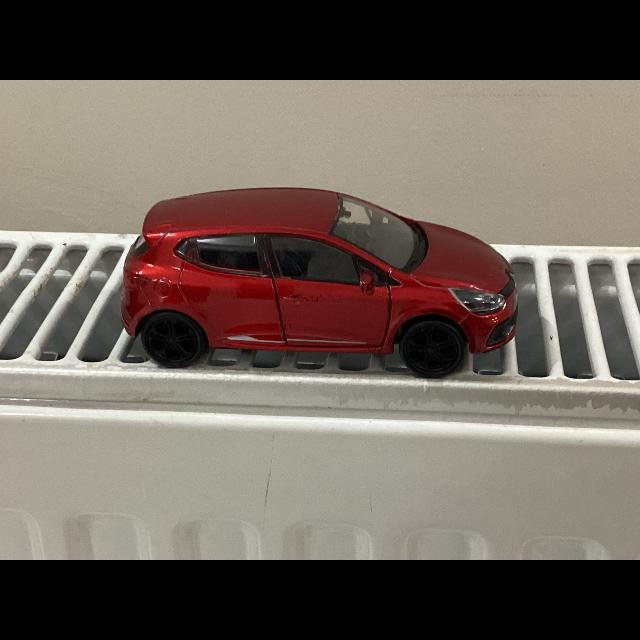Dogru_Jant: (406, 324, 460, 374), (146, 316, 198, 362)
